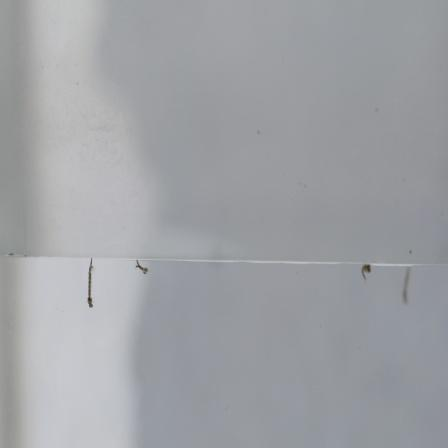Jentik-Nyamuk: (87, 258, 92, 308), (361, 264, 371, 280), (136, 260, 148, 273)
